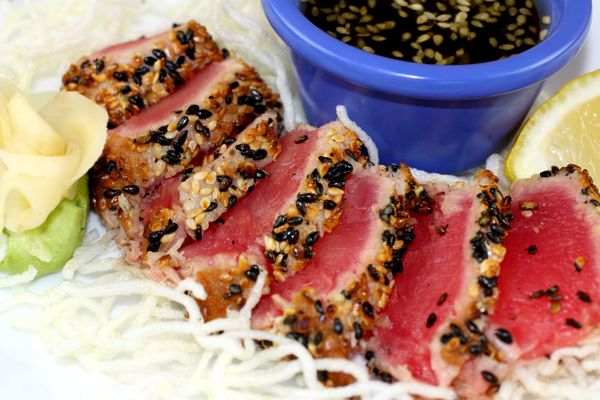sushi: (262, 0, 598, 175)
